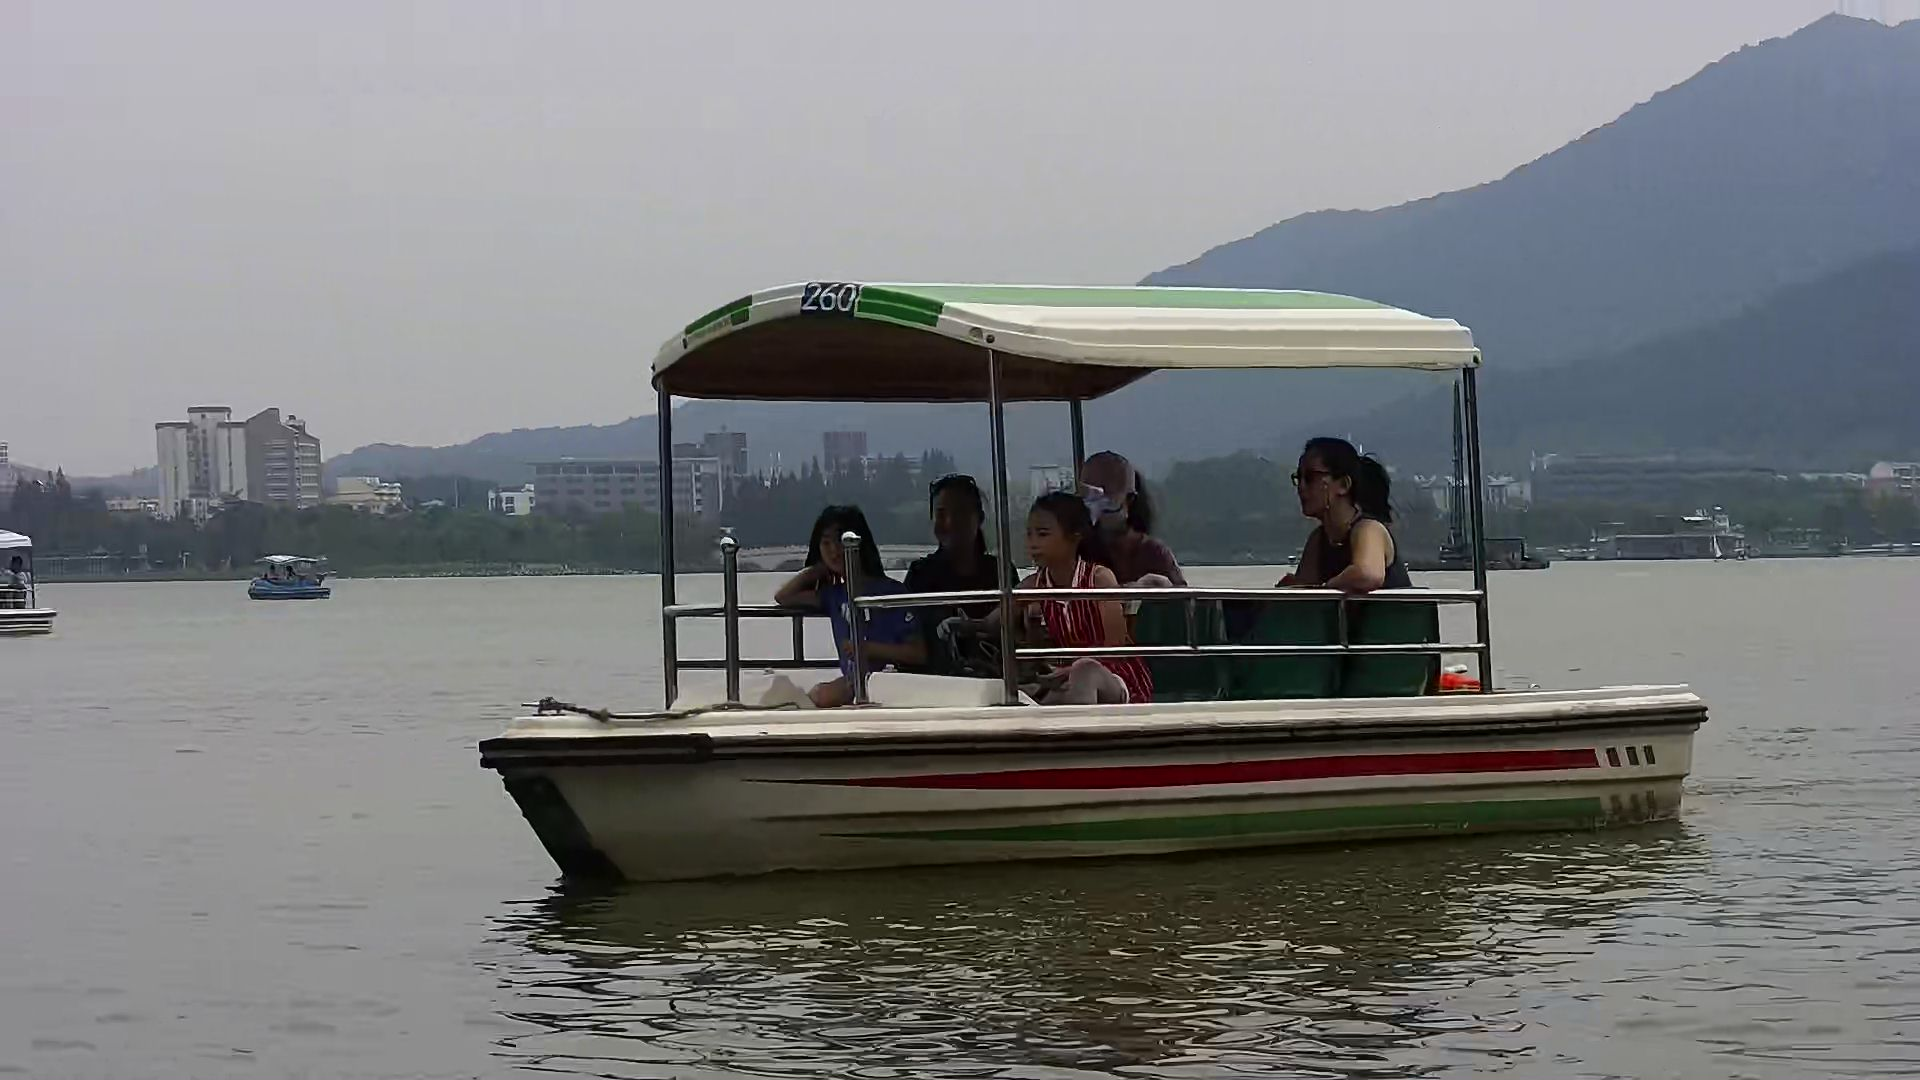boat: (457, 267, 1718, 886), (242, 552, 339, 604)
person: (1010, 494, 1132, 713), (1275, 439, 1415, 587), (895, 482, 1023, 642), (796, 516, 915, 682), (1068, 453, 1194, 610)
